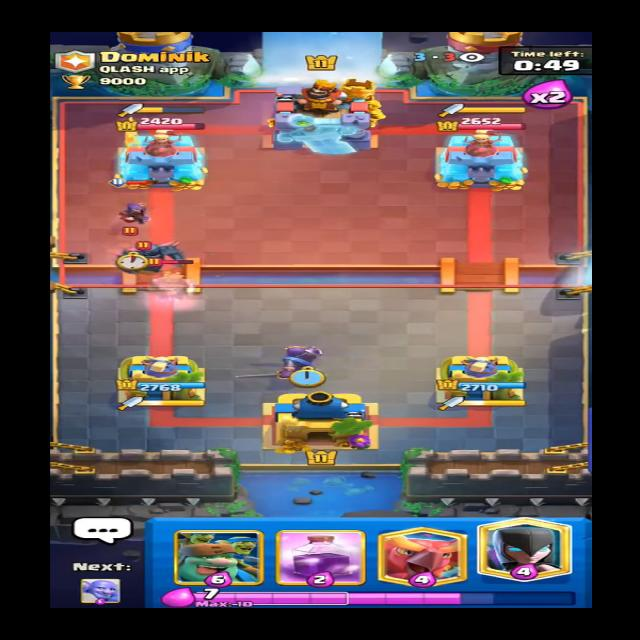evo-wizard: (111, 176, 161, 227)
pekka: (110, 230, 189, 274)
royal-ghost: (142, 257, 210, 302)
